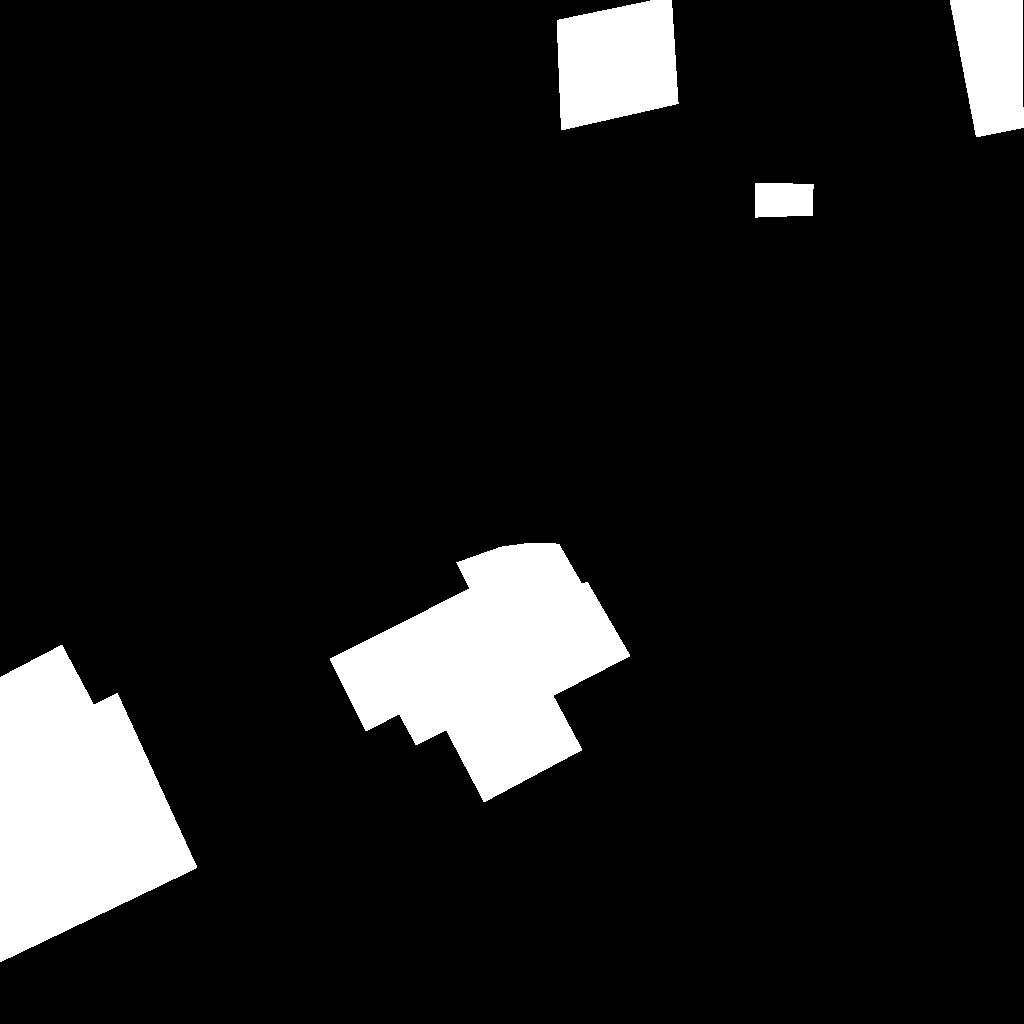building: (330, 543, 631, 803), (0, 645, 198, 963), (557, 0, 679, 131), (950, 0, 1024, 138), (755, 183, 814, 218)
